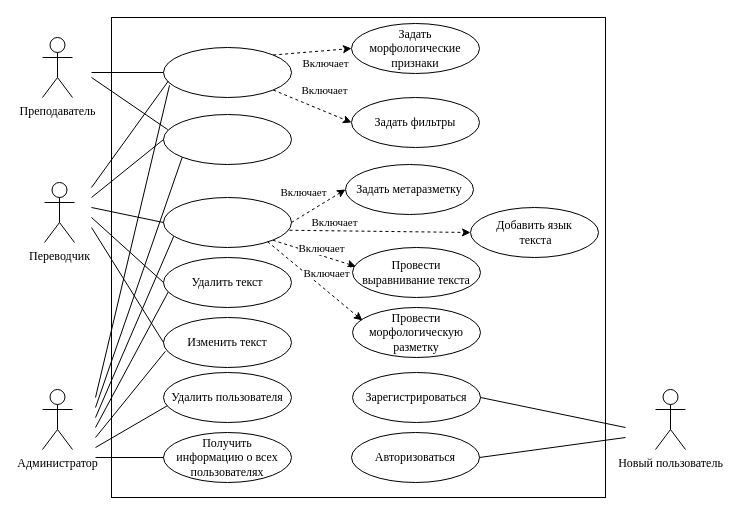
This 740x515 diagram has some shape labels left out. The centre of each missing label's shape, as x and y in pixels:
"Добавить текст" belongs at point (227, 222).
"Получить примеры употребления и перевод" belongs at point (227, 72).
"Поменять роль" belongs at point (227, 139).
